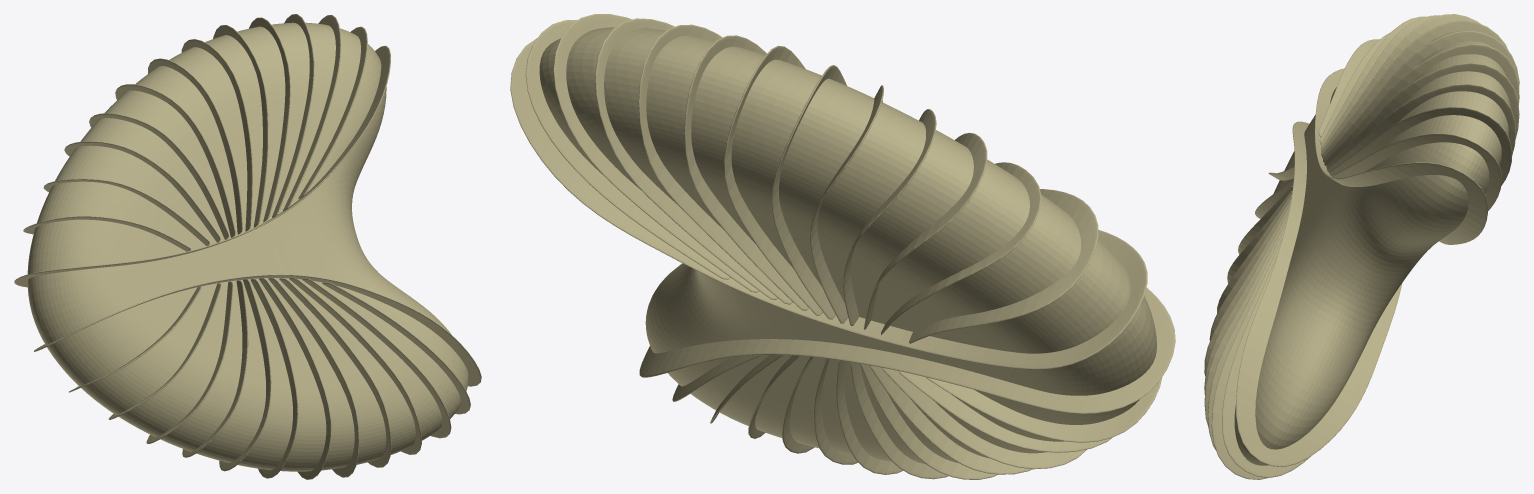
The model's file is fins-gold-v55.glb.
3 views of the same model, side by side, from view 1: azimuth 30°, elevation 25°; view 2: azimuth 150°, elevation 25°; view 3: azimuth 270°, elevation 25° (orthographic). The views are drawn at different scales.
Parts seen in each view (by area): view 1: Plane_13, Plane_12, Plane_7, Plane_6, Plane_5, Plane_8, Plane_10, Plane_4, Plane_9, Plane_11, Plane_3, Plane_2 (+2 smaller); view 2: Plane_13, Plane_12, Plane, Plane_11, Plane_10, Plane_2, Plane_1, Plane_8, Plane_7, Plane_6, Plane_9, Plane_5 (+2 smaller); view 3: Plane_13, Plane_12, Plane_11, Plane_10, Plane_8, Plane_9, Plane_7, Plane_6, Plane_5, Plane_4, Plane_3, Plane_2 (+2 smaller).
Boxes of the visible parts, <box> form: Plane_13: <box>27,22,468,471</box>; Plane_12: <box>14,45,481,386</box>; Plane_7: <box>213,25,359,477</box>; Plane_6: <box>181,39,331,479</box>; Plane_5: <box>148,58,298,478</box>; Plane_8: <box>249,17,391,467</box>; Plane_10: <box>283,15,451,438</box>; Plane_4: <box>115,84,271,471</box>; Plane_9: <box>272,14,421,454</box>; Plane_11: <box>298,26,470,414</box>; Plane_3: <box>89,113,248,457</box>; Plane_2: <box>64,141,233,443</box>; Plane_13: <box>539,27,1156,464</box>; Plane_12: <box>510,38,1175,413</box>; Plane: <box>909,189,1162,442</box>; Plane_11: <box>525,20,761,401</box>; Plane_10: <box>553,14,783,423</box>; Plane_2: <box>864,132,1086,469</box>; Plane_1: <box>881,162,1112,452</box>; Plane_8: <box>638,24,814,453</box>; Plane_7: <box>684,35,857,464</box>; Plane_6: <box>724,45,902,474</box>; Plane_9: <box>595,18,800,438</box>; Plane_5: <box>771,65,948,479</box>; Plane_13: <box>1234,30,1510,465</box>; Plane_12: <box>1236,68,1487,466</box>; Plane_11: <box>1222,133,1501,477</box>; Plane_10: <box>1211,106,1512,479</box>; Plane_8: <box>1204,62,1519,427</box>; Plane_9: <box>1208,84,1516,450</box>; Plane_7: <box>1204,44,1519,394</box>; Plane_6: <box>1204,30,1519,375</box>; Plane_5: <box>1209,20,1508,340</box>; Plane_4: <box>1217,14,1480,313</box>; Plane_3: <box>1227,15,1440,283</box>; Plane_2: <box>1238,16,1426,254</box>.
Bounding box in the file's own units: 2.7 × 2.39 × 1.73.
